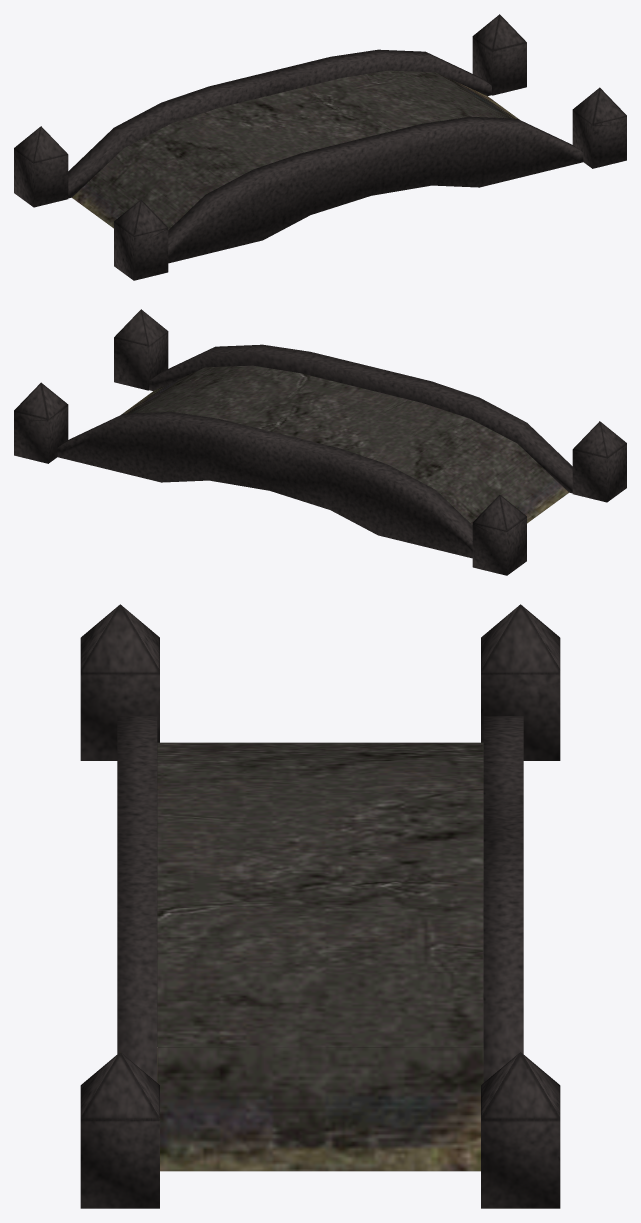
The model's file is canal_bridge.fbx.
3 views of the same model, one above another, from view 1: azimuth 30°, elevation 25°; view 2: azimuth 150°, elevation 25°; view 3: azimuth 270°, elevation 25° (orthographic). The views are drawn at different scales.
Visible parts, largest first — view 1: bridge; view 2: bridge; view 3: bridge.
Boxes of the visible parts, <box> form: bridge: <box>14,14,626,280</box>; bridge: <box>14,309,626,575</box>; bridge: <box>80,604,560,1208</box>.
Bounding box in the file's own units: 1138 × 155 × 479.
